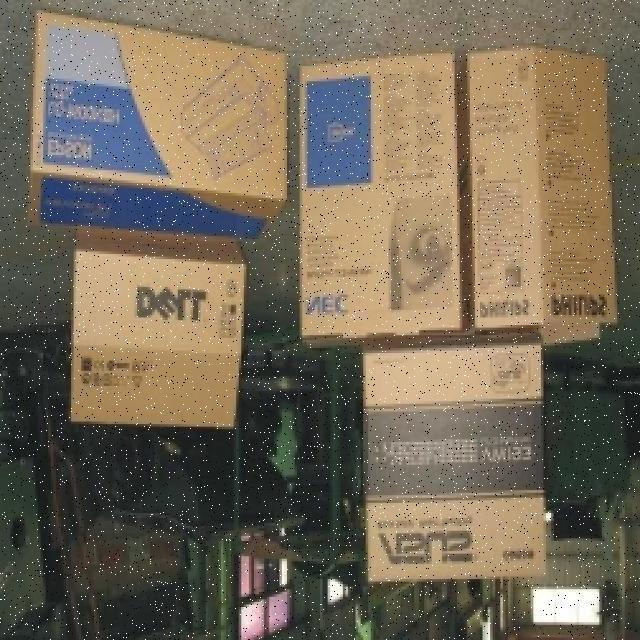box: (357, 330, 544, 602), (28, 44, 293, 228), (304, 65, 460, 358), (468, 42, 616, 342), (58, 236, 251, 428)
